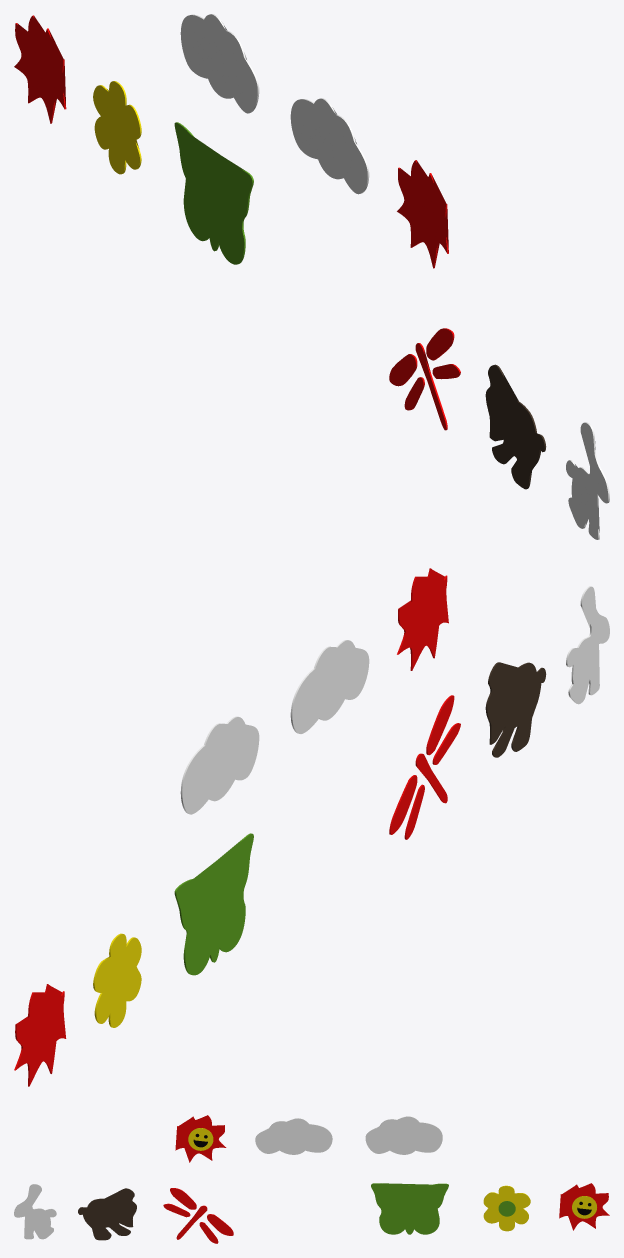
The model's file is TNK-13.dae.
3 renders of one model, top to bottom at view 1: azimuth 30°, elevation 25°; view 2: azimuth 150°, elevation 25°; view 3: azimuth 270°, elevation 25°, orthographic. The views are drawn at different scales.
Parts seen in each view (by area): view 1: oblako (×2), babochka, medvedb, solnce3, solnce03, cvetok2, zaiac, strecoza; view 2: oblako (×2), babochka, medvedb, cvetok2, solnce03, solnce3, strecoza, zaiac; view 3: oblako (×2), babochka, medvedb, cvetok2, zaiac, strecoza, solnce3, solnce03, solnce2, solnce02, cvetok1.
Boxes of the visible parts, <box> form: oblako (×2): <box>180,14,369,194</box>; babochka: <box>174,122,253,264</box>; medvedb: <box>485,364,546,489</box>; solnce3: <box>14,15,66,123</box>; solnce03: <box>397,160,448,268</box>; cvetok2: <box>93,81,141,174</box>; zaiac: <box>566,422,609,539</box>; strecoza: <box>389,328,460,430</box>; oblako (×2): <box>180,640,369,814</box>; babochka: <box>174,833,253,975</box>; medvedb: <box>485,662,546,757</box>; cvetok2: <box>93,933,141,1027</box>; solnce03: <box>397,568,448,670</box>; solnce3: <box>14,984,66,1086</box>; strecoza: <box>389,695,460,839</box>; zaiac: <box>566,586,609,704</box>; oblako (×2): <box>255,1116,442,1154</box>; babochka: <box>371,1183,448,1234</box>; medvedb: <box>78,1188,136,1240</box>; cvetok2: <box>483,1185,530,1231</box>; zaiac: <box>14,1184,56,1239</box>; strecoza: <box>163,1188,233,1243</box>; solnce3: <box>559,1183,609,1230</box>; solnce03: <box>175,1115,226,1162</box>; solnce2: <box>572,1196,596,1218</box>; solnce02: <box>188,1128,213,1150</box>; cvetok1: <box>498,1201,515,1216</box>.
Size of the model in its own units: 1.56 by 162 by 682.
